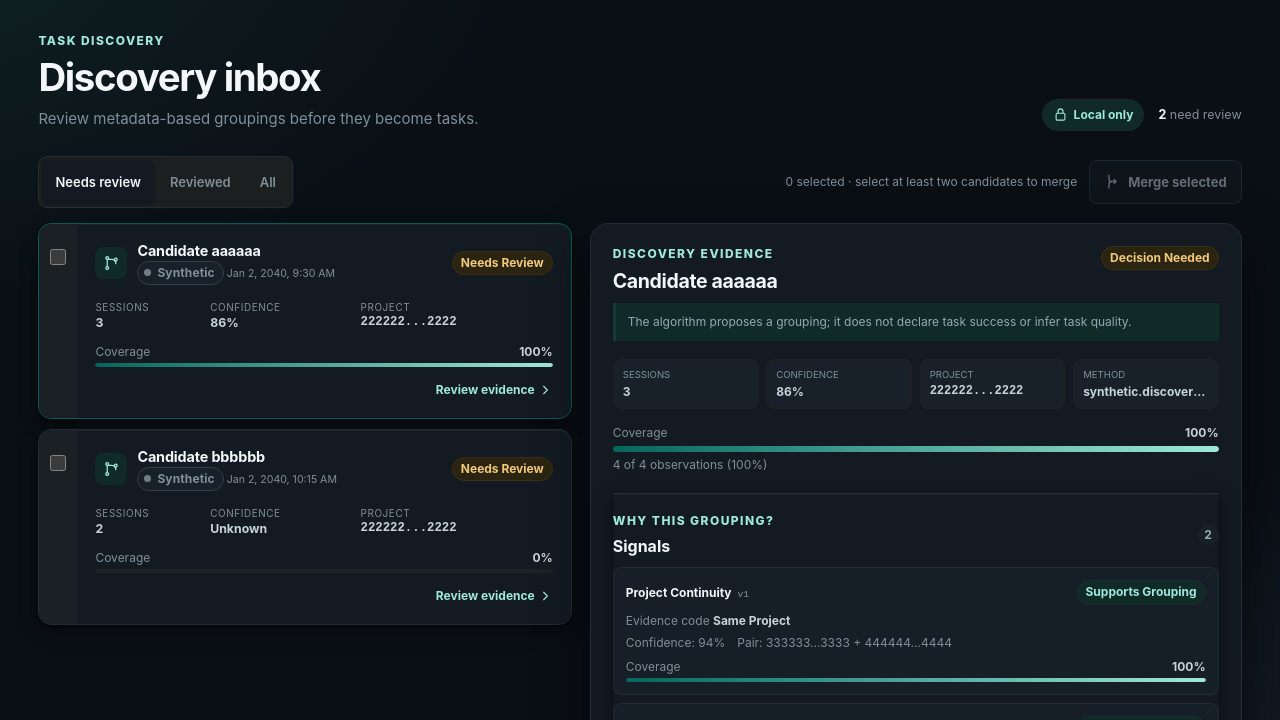
Test: DiscoveryInbox › loads the undecided review queue and supports merge selection
Expected: the button "Candidate aaaaaa" is shown, [77,224,571,418]
Expected: the button "Candidate bbbbbb" is shown, [77,430,571,624]
Click the button "Reviewed" at [200, 182], box [157,160,244,204]
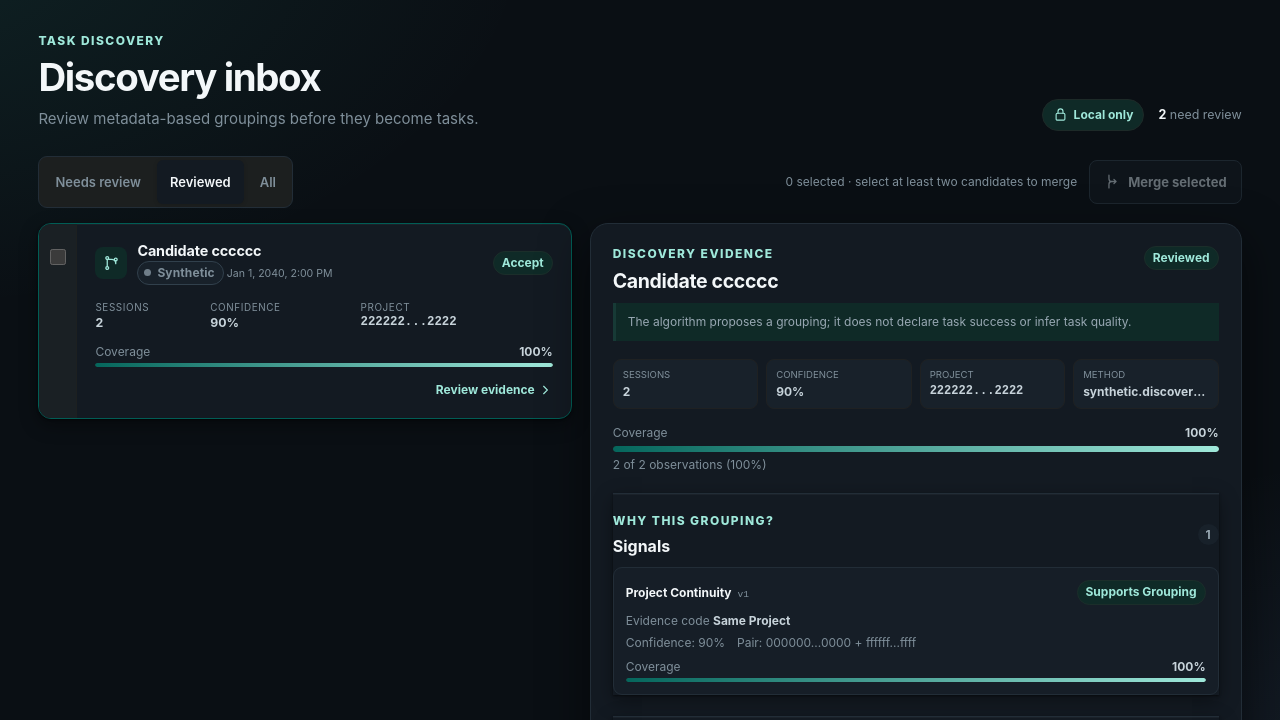
Now the button "Candidate cccccc" is shown, box [77,224,571,418]
Click the button "Needs review" at [98, 182], box [42,160,154,204]
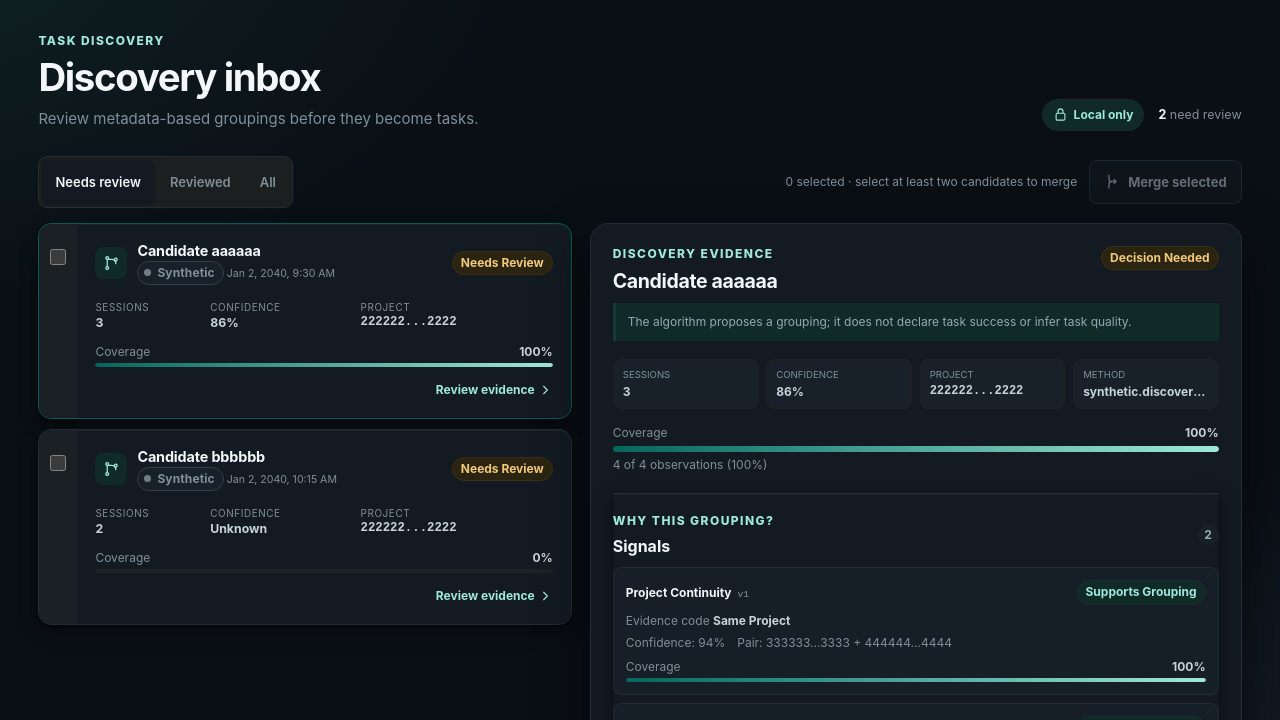
Expected: the button "Merge selected" is disabled, [1089,160,1242,204]
Now the button "Candidate aaaaaa" is shown, box [77,224,571,418]
Click the 1st checkbox at [58, 257], box [50,249,66,265]
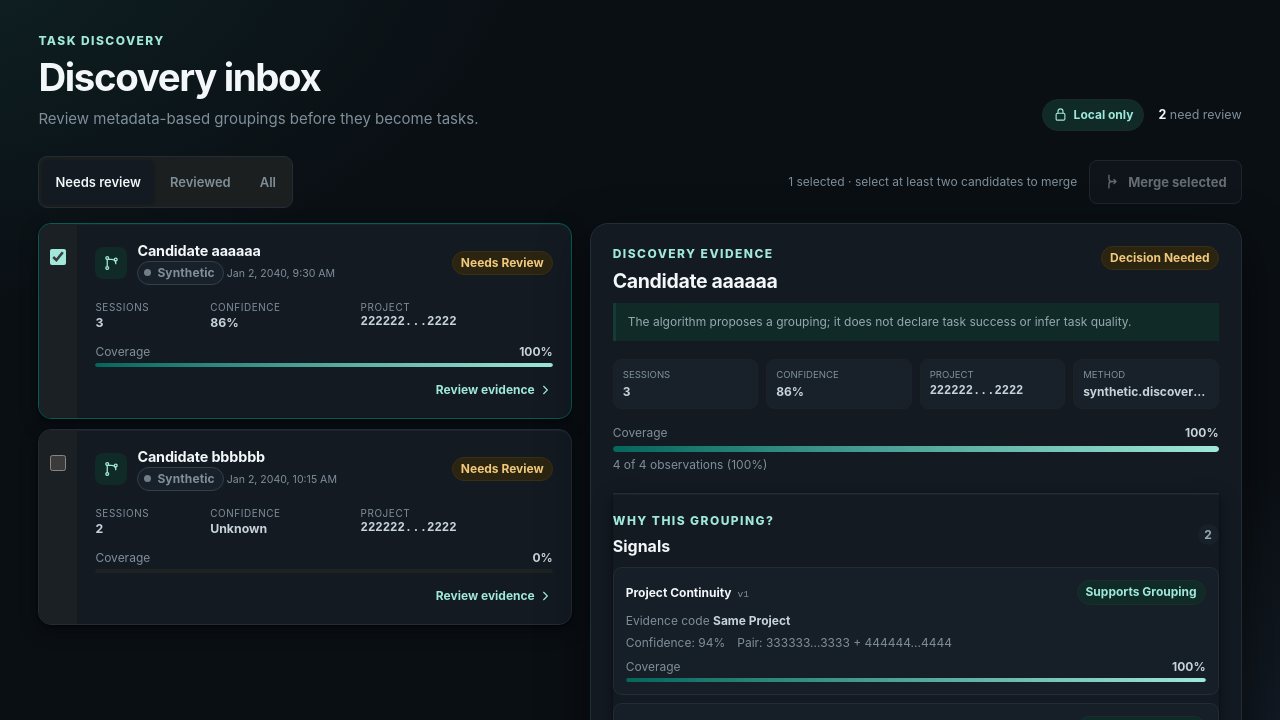
Click the 2nd checkbox at [58, 463], box [50,455,66,471]
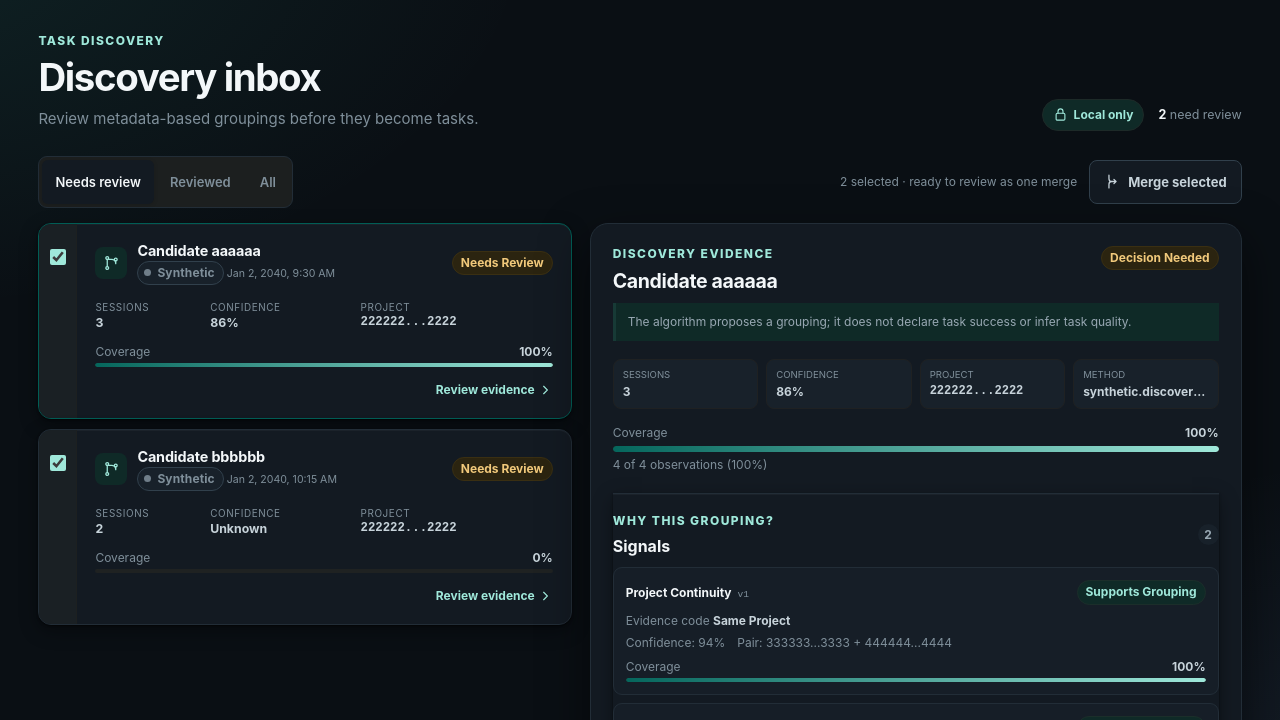
Now the button "Merge selected" is enabled
Click the button "Merge selected" at [1165, 182], box [1089,160,1242,204]
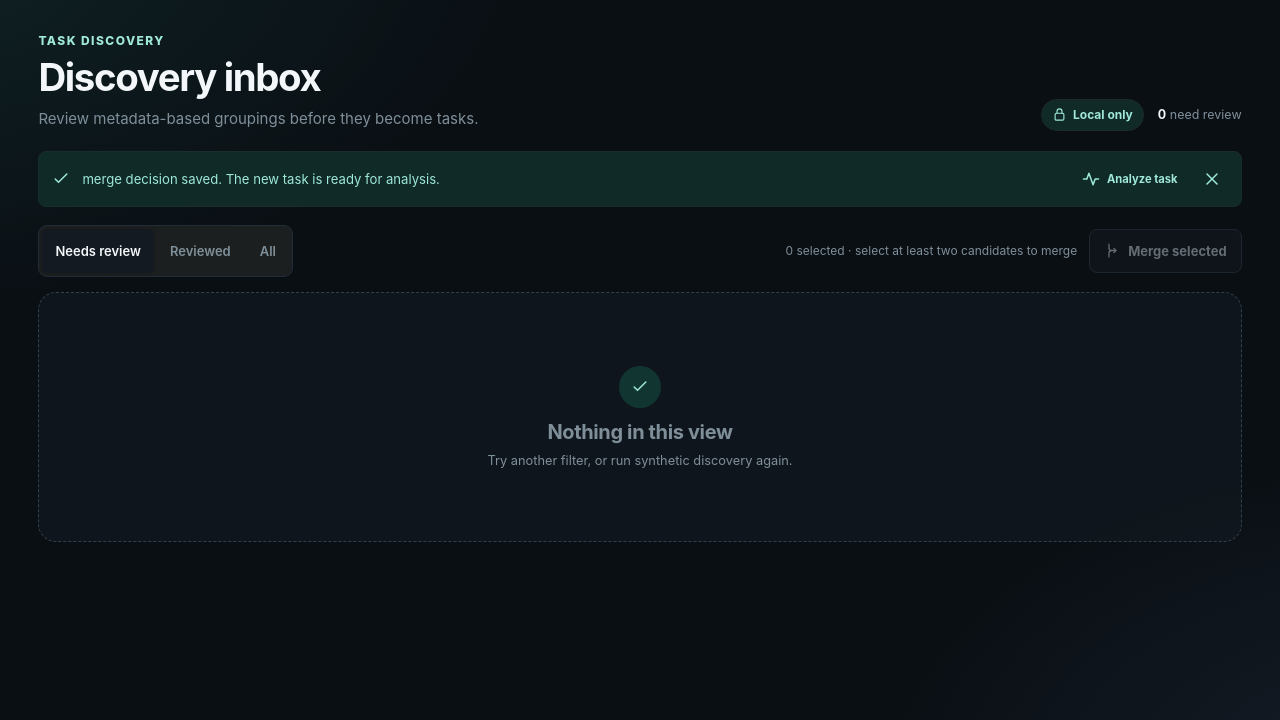
Now the text "merge decision saved. The new task is ready for analysis." is shown, box [82,171,440,187]
